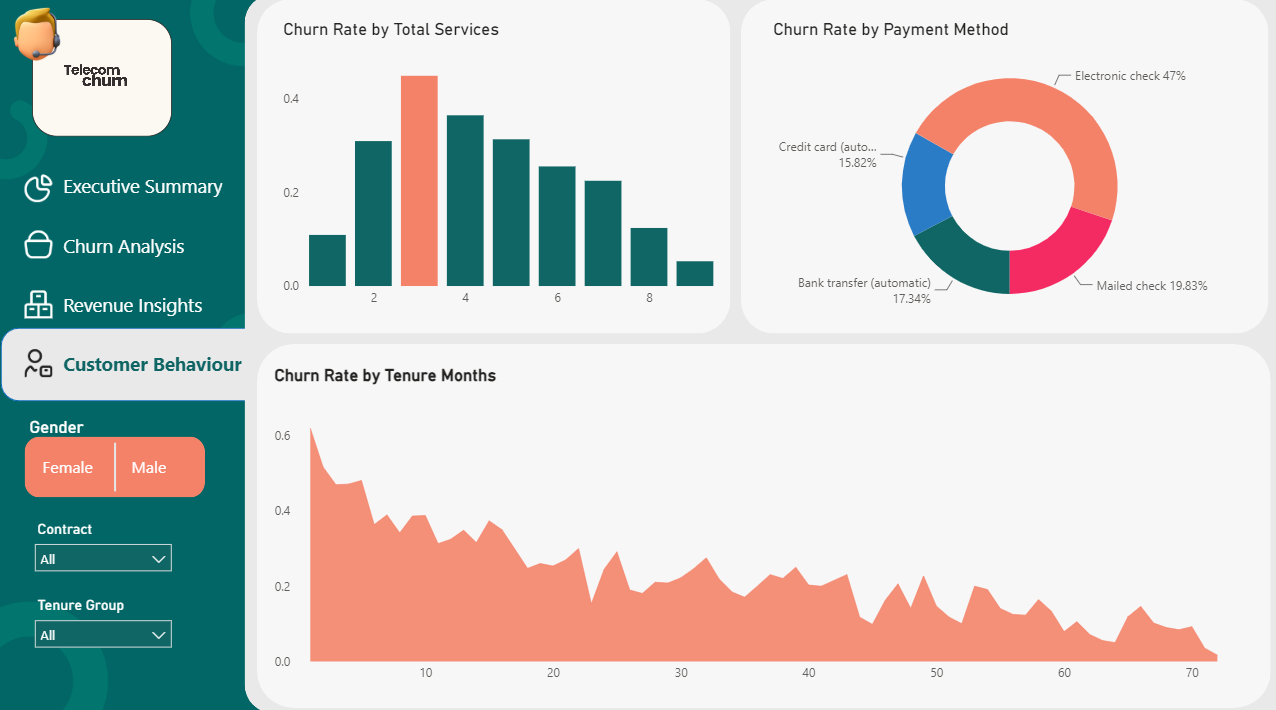

Layout of this report page (visuals, bound fields, positions):
{"tool":"powerbi","page":{"name":"Customer Behaviour","canvas":[1280,720],"ordinal":3},"visuals":[{"type":"shape","box":[4.2,333.3,255.6,73.6],"z":0},{"type":"advancedSlicerVisual","title":"Gender","fields":{"Values":["customer_churn_clean.gender"]},"box":[27.8,422.2,180.6,80.6],"z":0,"group":"g6"},{"type":"shape","box":[247.2,0,1033.3,719.4],"z":1000},{"type":"shape","box":[259.7,5.6,473.6,334.7],"z":1000,"group":"g3"},{"type":"shape","box":[87.5,448.6,61.1,48.6],"z":1000,"group":"g6"},{"type":"group","id":"g1","title":"Group 5","box":[260.4,350.4,1013.9,363.9],"z":2000},{"type":"shape","box":[743,5.6,527.8,334.7],"z":3000,"group":"g3"},{"type":"pageNavigator","box":[66.7,162.5,180.6,237.5],"z":3000},{"type":"image","box":[27.8,173.6,27.8,40.3],"z":4000},{"type":"image","box":[27.8,230.6,27.8,40.3],"z":5000},{"type":"image","box":[27.8,290.3,27.8,40.3],"z":6000},{"type":"image","box":[27.8,348.6,27.8,40.3],"z":7000},{"type":"slicer","title":"Contract","fields":{"Values":["customer_churn_clean.contract"]},"box":[27.8,520.8,156.9,59.7],"z":8000},{"type":"shape","box":[260.4,350.4,1013.9,363.9],"z":8500,"group":"g4"},{"type":"group","id":"g2","title":"Group 7","box":[27.8,422.2,180.6,80.6],"z":9000},{"type":"areaChart","title":"Churn Rate by Tenure Months","fields":{"Y":["_Key_Measure.Churn Rate %"],"Category":["customer_churn_clean.tenure_months"]},"box":[272.8,371.1,1001.4,326.4],"z":10000},{"type":"group","id":"g3","title":"Group 1","box":[259.7,5.6,1011.1,334.7],"z":11000},{"type":"group","id":"g4","title":"Group 6","box":[260.4,350.4,1013.9,363.9],"z":11002,"group":"g1"},{"type":"group","id":"g5","title":"Group 10","box":[0,11.1,175,131.9],"z":12000},{"type":"clusteredColumnChart","title":"Churn Rate by Total Services","fields":{"Category":["customer_churn_clean.total_services"],"Y":["_Key_Measure.Churn Rate %"]},"box":[280.5,25,440.3,297.2],"z":12000,"group":"g3"},{"type":"slicer","title":"Contract","fields":{"Values":["customer_churn_clean.tenure_group"]},"box":[27.8,597.2,156.9,93.1],"z":12001},{"type":"donutChart","title":"Churn Rate by Payment Method","fields":{"Y":["_Key_Measure.Churn Rate %"],"Series":["customer_churn_clean.payment_method"]},"box":[770.8,25,483.3,315.3],"z":13000,"group":"g3"},{"type":"image","box":[35,25.2,140,117.8],"z":18000,"group":"g5"},{"type":"image","box":[0,11.1,78.2,58.9],"z":19500,"group":"g5"},{"type":"shape","box":[27.8,441.6,180.6,61.1],"z":20000,"group":"g2"},{"type":"group","id":"g6","title":"Group 8","box":[27.8,422.2,180.6,80.6],"z":21003,"group":"g2"}]}

Visuals, with their boxes in screenshot pixels (x1, y1, x2, y2), scaled from the page's 1280x720 canvas onto the 1276x710 screenshot:
shape: rect(4, 329, 259, 401)
"Gender" advancedSlicerVisual: rect(28, 416, 208, 496)
shape: rect(246, 0, 1275, 709)
shape: rect(259, 6, 731, 336)
shape: rect(87, 442, 148, 490)
"Group 5" group: rect(260, 346, 1270, 704)
shape: rect(741, 6, 1267, 336)
pageNavigator: rect(66, 160, 247, 394)
image: rect(28, 171, 55, 211)
image: rect(28, 227, 55, 267)
image: rect(28, 286, 55, 326)
image: rect(28, 344, 55, 383)
"Contract" slicer: rect(28, 514, 184, 572)
shape: rect(260, 346, 1270, 704)
"Group 7" group: rect(28, 416, 208, 496)
"Churn Rate by Tenure Months" areaChart: rect(272, 366, 1270, 688)
"Group 1" group: rect(259, 6, 1267, 336)
"Group 6" group: rect(260, 346, 1270, 704)
"Group 10" group: rect(0, 11, 174, 141)
"Churn Rate by Total Services" clusteredColumnChart: rect(280, 25, 719, 318)
"Contract" slicer: rect(28, 589, 184, 681)
"Churn Rate by Payment Method" donutChart: rect(768, 25, 1250, 336)
image: rect(35, 25, 174, 141)
image: rect(0, 11, 78, 69)
shape: rect(28, 435, 208, 496)
"Group 8" group: rect(28, 416, 208, 496)
